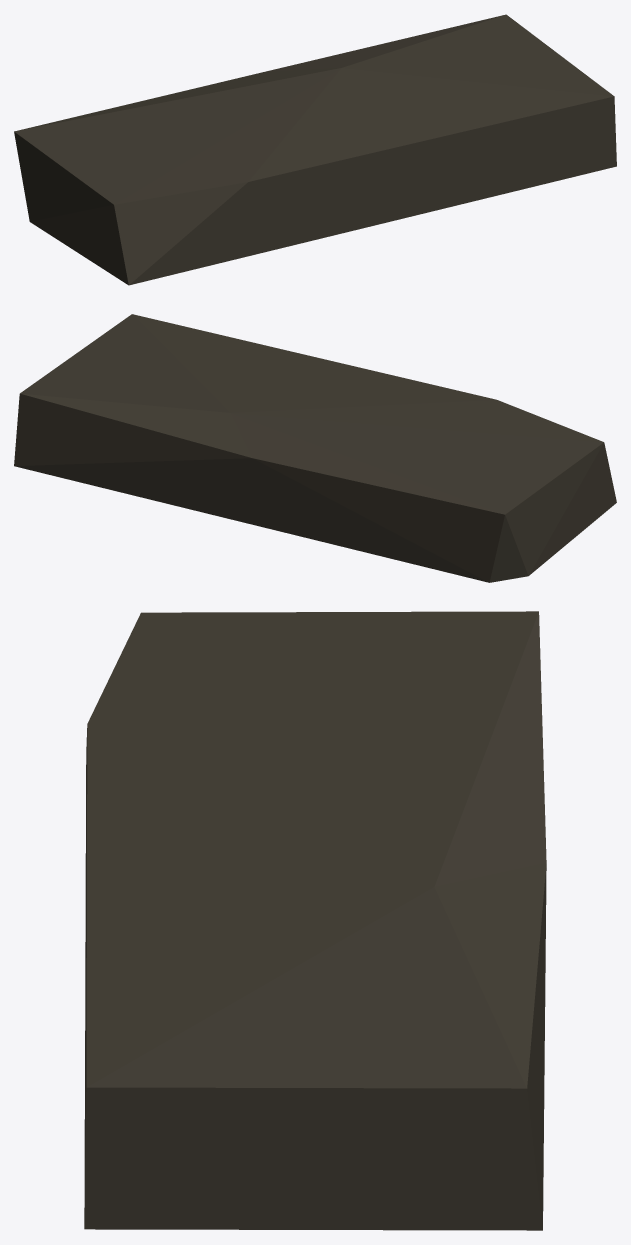
File: Brick_Single_3.fbx
3 renders of one model, top to bottom at view 1: azimuth 30°, elevation 25°; view 2: azimuth 150°, elevation 25°; view 3: azimuth 270°, elevation 25°, orthographic. The views are drawn at different scales.
Parts seen in each view (by area): view 1: Group49062; view 2: Group49062; view 3: Group49062.
Part boxes in pixels (bbox=[...]): Group49062: bbox=[14, 14, 616, 285]; Group49062: bbox=[14, 314, 616, 582]; Group49062: bbox=[84, 611, 546, 1230].
Bounding box in the file's own units: 2.91 × 0.4803 × 1.18.
